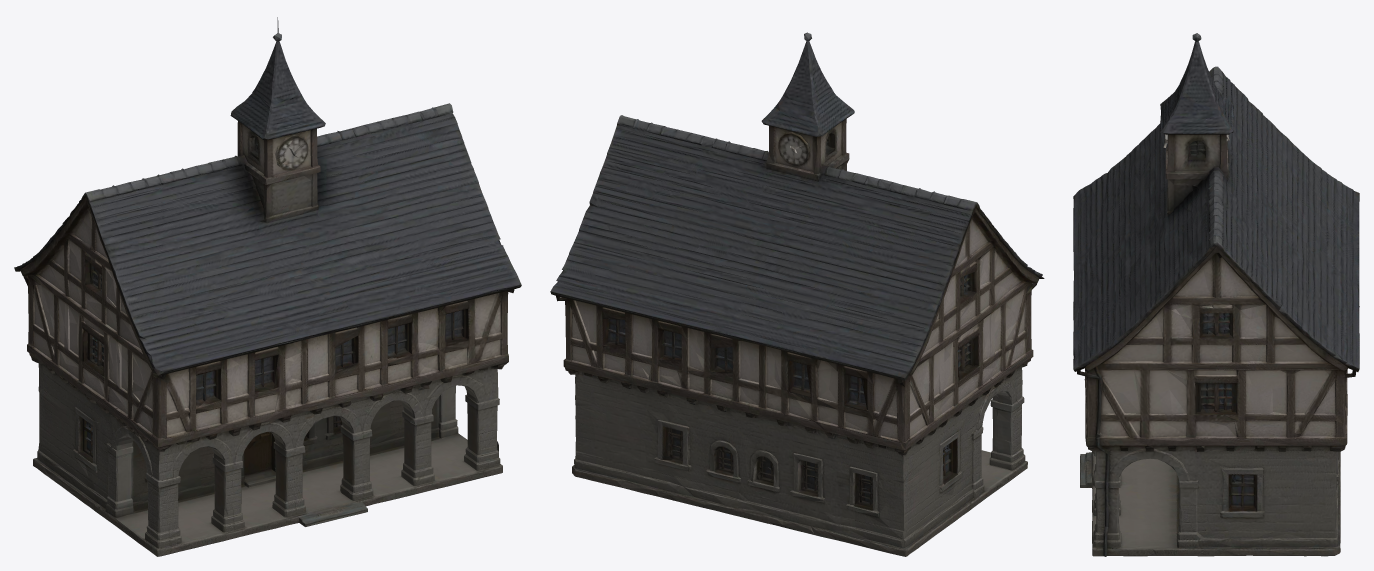
File: bld_townhall_a_LOD0.glb
3 views of the same model, side by side, from view 1: azimuth 30°, elevation 25°; view 2: azimuth 150°, elevation 25°; view 3: azimuth 270°, elevation 25° (orthographic). The views are drawn at different scales.
Parts seen in each view (by area): view 1: tripo_mesh_f04157bb-b642-41f8-ab76-1a3c367b57a6; view 2: tripo_mesh_f04157bb-b642-41f8-ab76-1a3c367b57a6; view 3: tripo_mesh_f04157bb-b642-41f8-ab76-1a3c367b57a6.
Boxes of the visible parts, x1,y1,x2,y2 form: tripo_mesh_f04157bb-b642-41f8-ab76-1a3c367b57a6: [14, 17, 521, 556]; tripo_mesh_f04157bb-b642-41f8-ab76-1a3c367b57a6: [550, 32, 1044, 556]; tripo_mesh_f04157bb-b642-41f8-ab76-1a3c367b57a6: [1073, 33, 1359, 556].
Size of the model in its own units: 9.91 by 12 by 6.79.
1 material, 1 textured.
